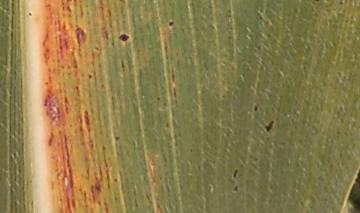tarspot: (265, 119, 274, 133), (118, 33, 130, 42), (231, 167, 238, 178), (253, 102, 260, 112), (167, 19, 175, 27), (111, 175, 118, 183), (232, 183, 238, 192), (26, 10, 33, 17), (113, 134, 120, 141), (156, 93, 161, 102), (42, 80, 49, 86), (87, 72, 92, 80), (338, 1, 343, 6)
